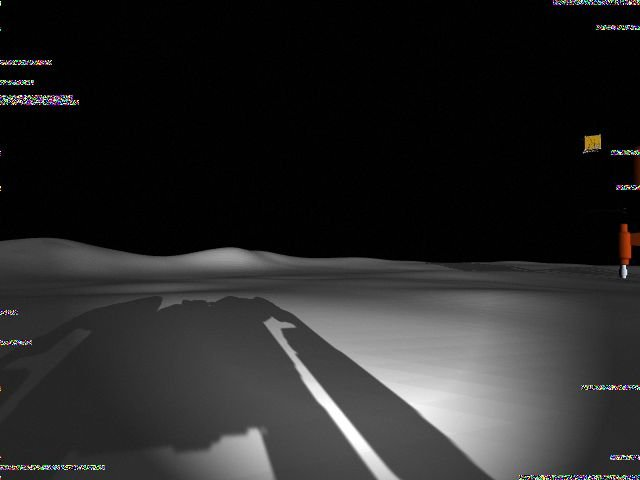cubesat: (576, 130, 605, 154)
